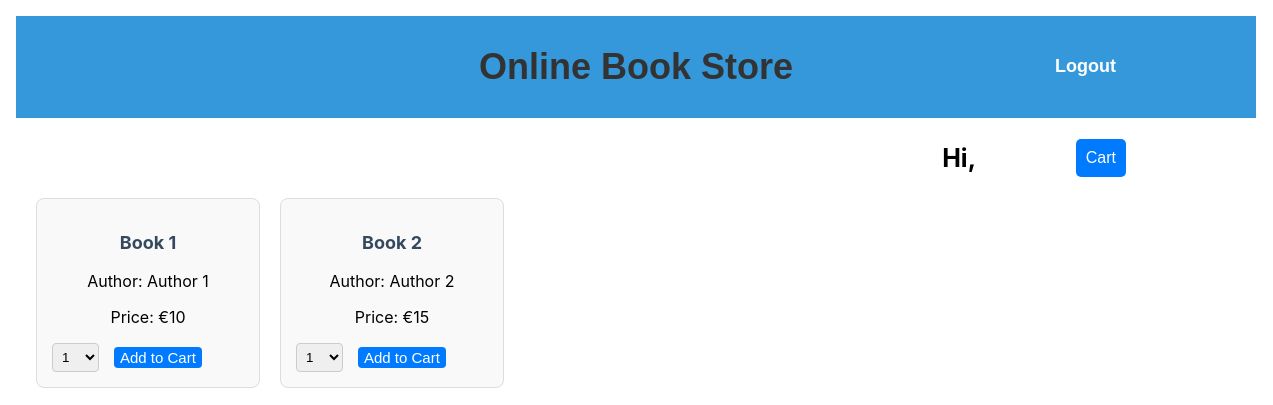
Test case: The count of added items should be displayed in the cart
Expected: the heading "Book 1" is shown, [120,232,176,253]
Expected: the heading "Book 2" is shown, [362,232,422,253]
Select "3" in the dropdown with test id "quantity-picker-1". click: (76, 358)
box: [52,343,99,372]
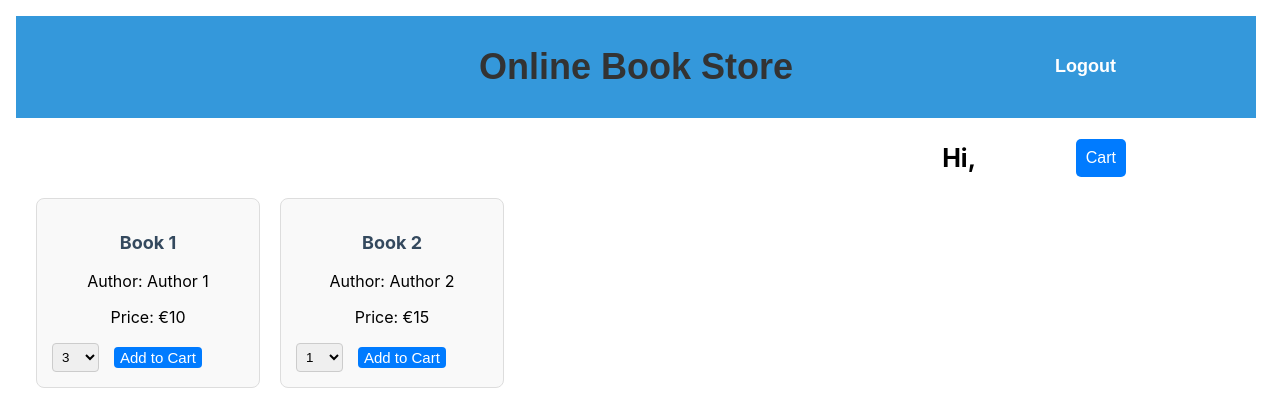
Click the button with test id "add-to-cart-1". click: click(158, 358)
box: [114,347,202,368]
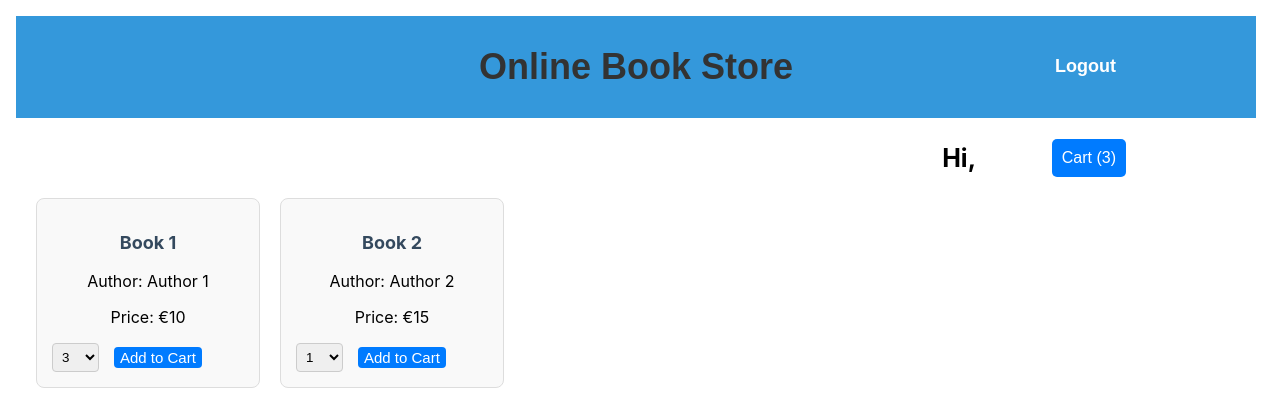
Now the button with test id "cart-button" reads "Cart (3)", box [1052,139,1126,177]
